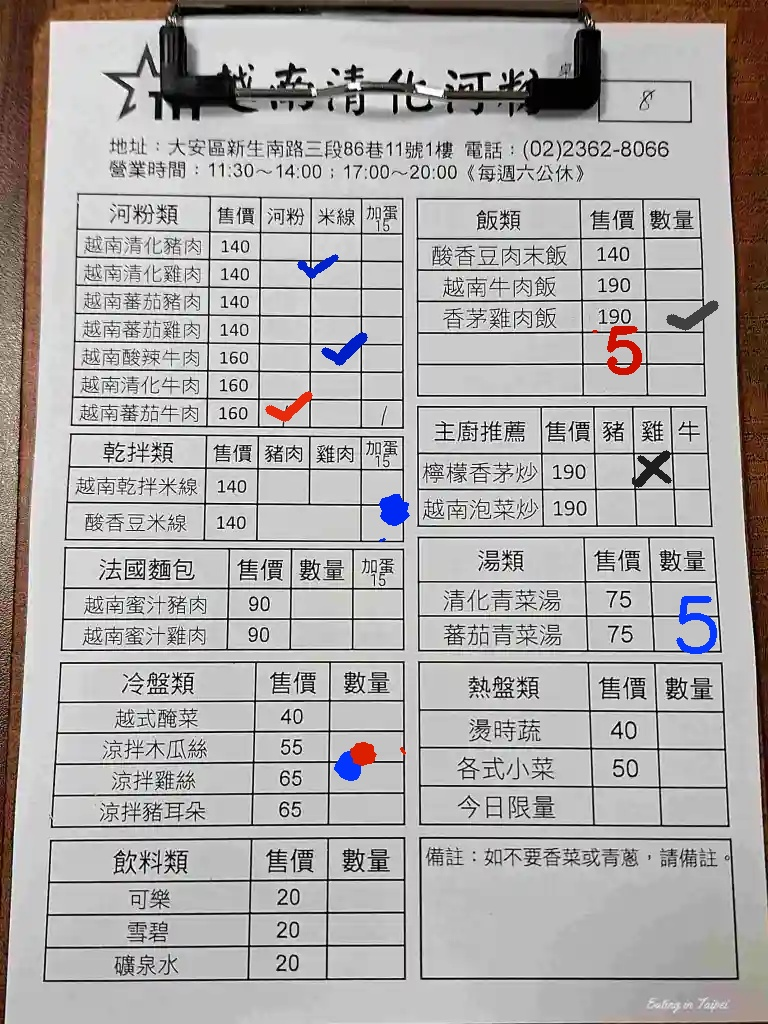marked_circle: (332, 761, 401, 796), (332, 732, 401, 767), (362, 502, 402, 539)
marked_number_5: (652, 615, 721, 650), (585, 331, 645, 361)
marked_tick: (643, 299, 703, 329), (312, 259, 361, 287), (311, 343, 360, 371), (261, 398, 310, 426)
marked_x: (633, 452, 673, 489)
